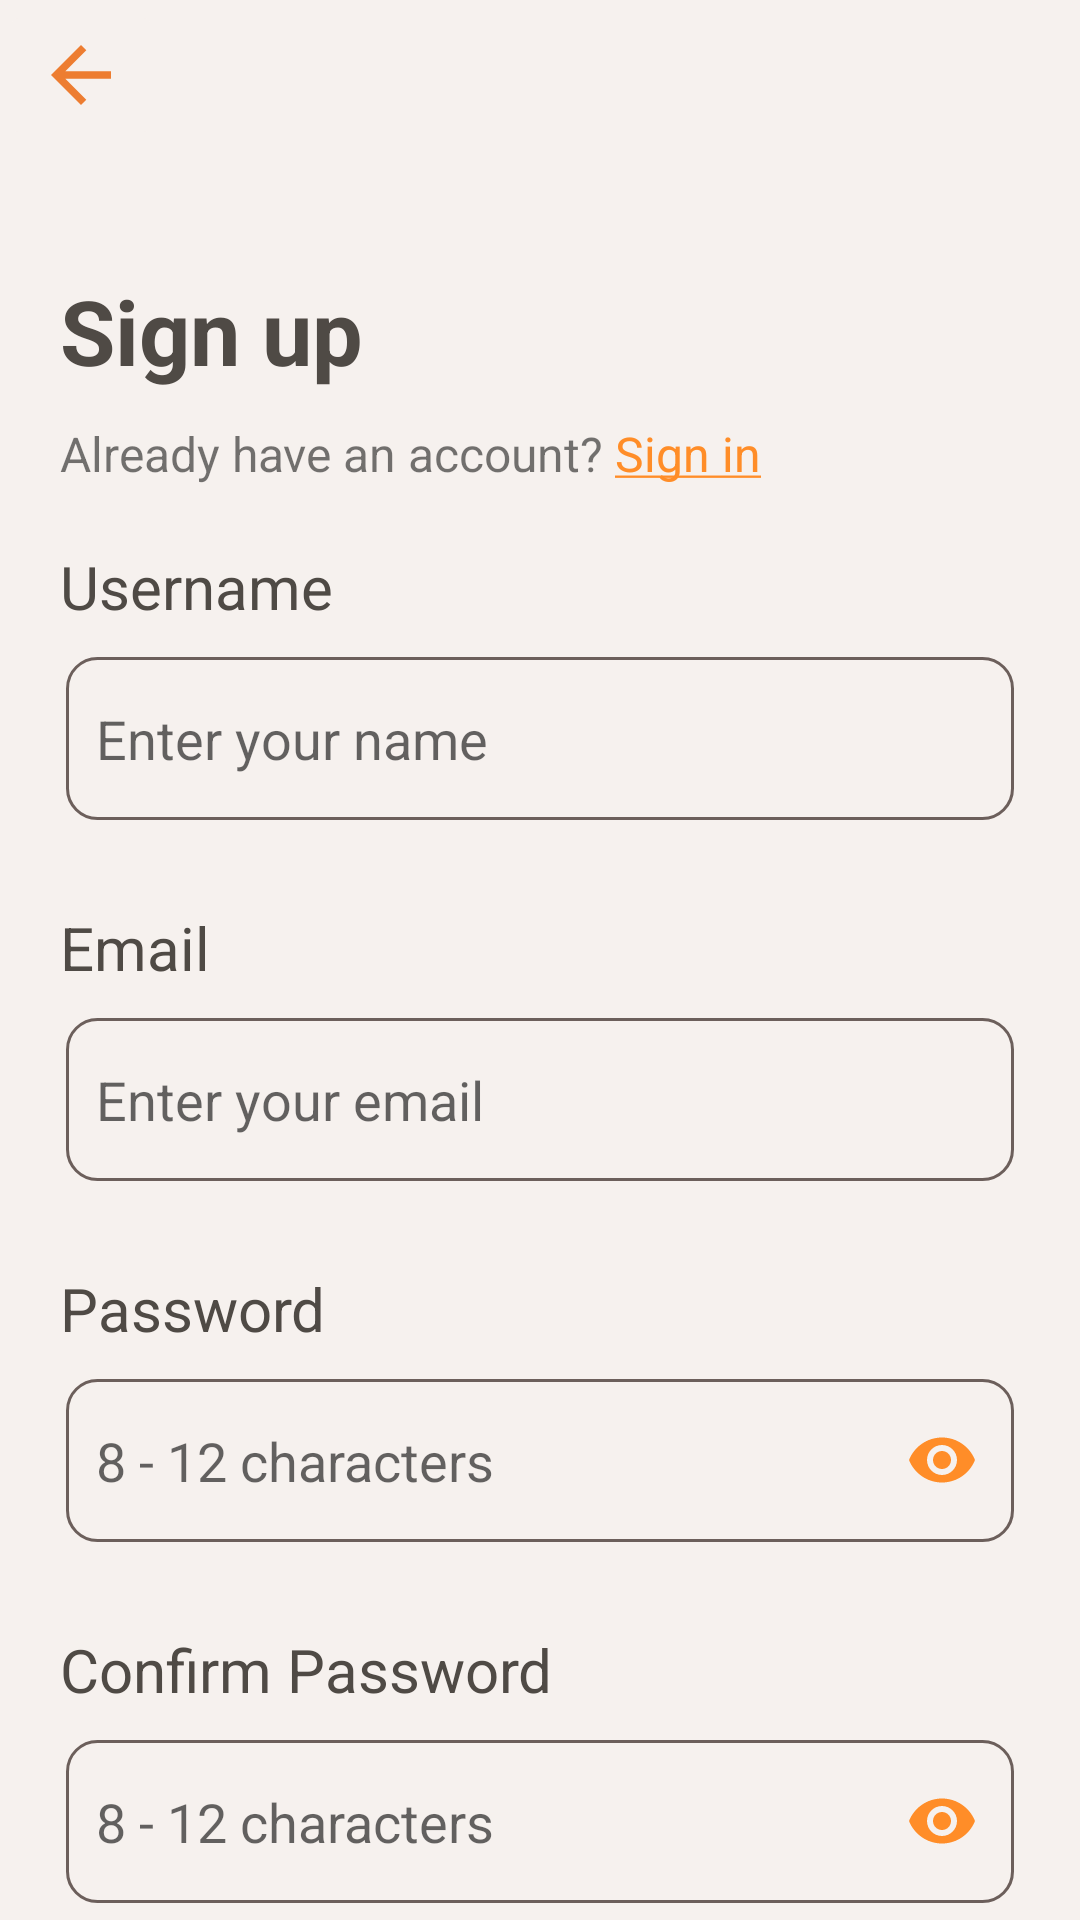

Icon bounding boxes for this 1080 x 1920 phone screenshot, format (x1, y1, x2, y2):
arrow back: (51, 45, 111, 105)
